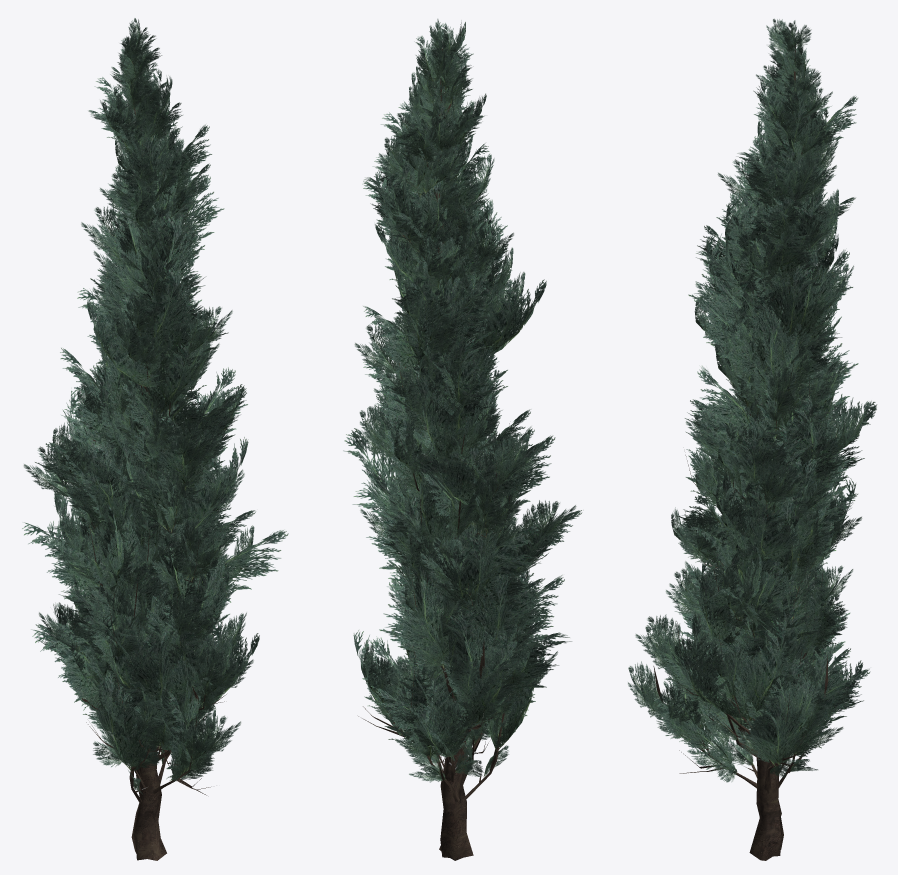
Rendered from cypres.glb.
3 views of the same model, side by side, from view 1: azimuth 30°, elevation 25°; view 2: azimuth 150°, elevation 25°; view 3: azimuth 270°, elevation 25° (orthographic). The views are drawn at different scales.
Parts seen in each view (by area): view 1: Cypress_V2_test; view 2: Cypress_V2_test; view 3: Cypress_V2_test.
Boxes of the visible parts, x1,y1,x2,y2 form: Cypress_V2_test: (22,18,288,860); Cypress_V2_test: (343,19,582,860); Cypress_V2_test: (628,18,877,860).
Size of the model in its own units: 1.66 by 5.31 by 1.49.
Materials: 3 (2 with a texture image).
